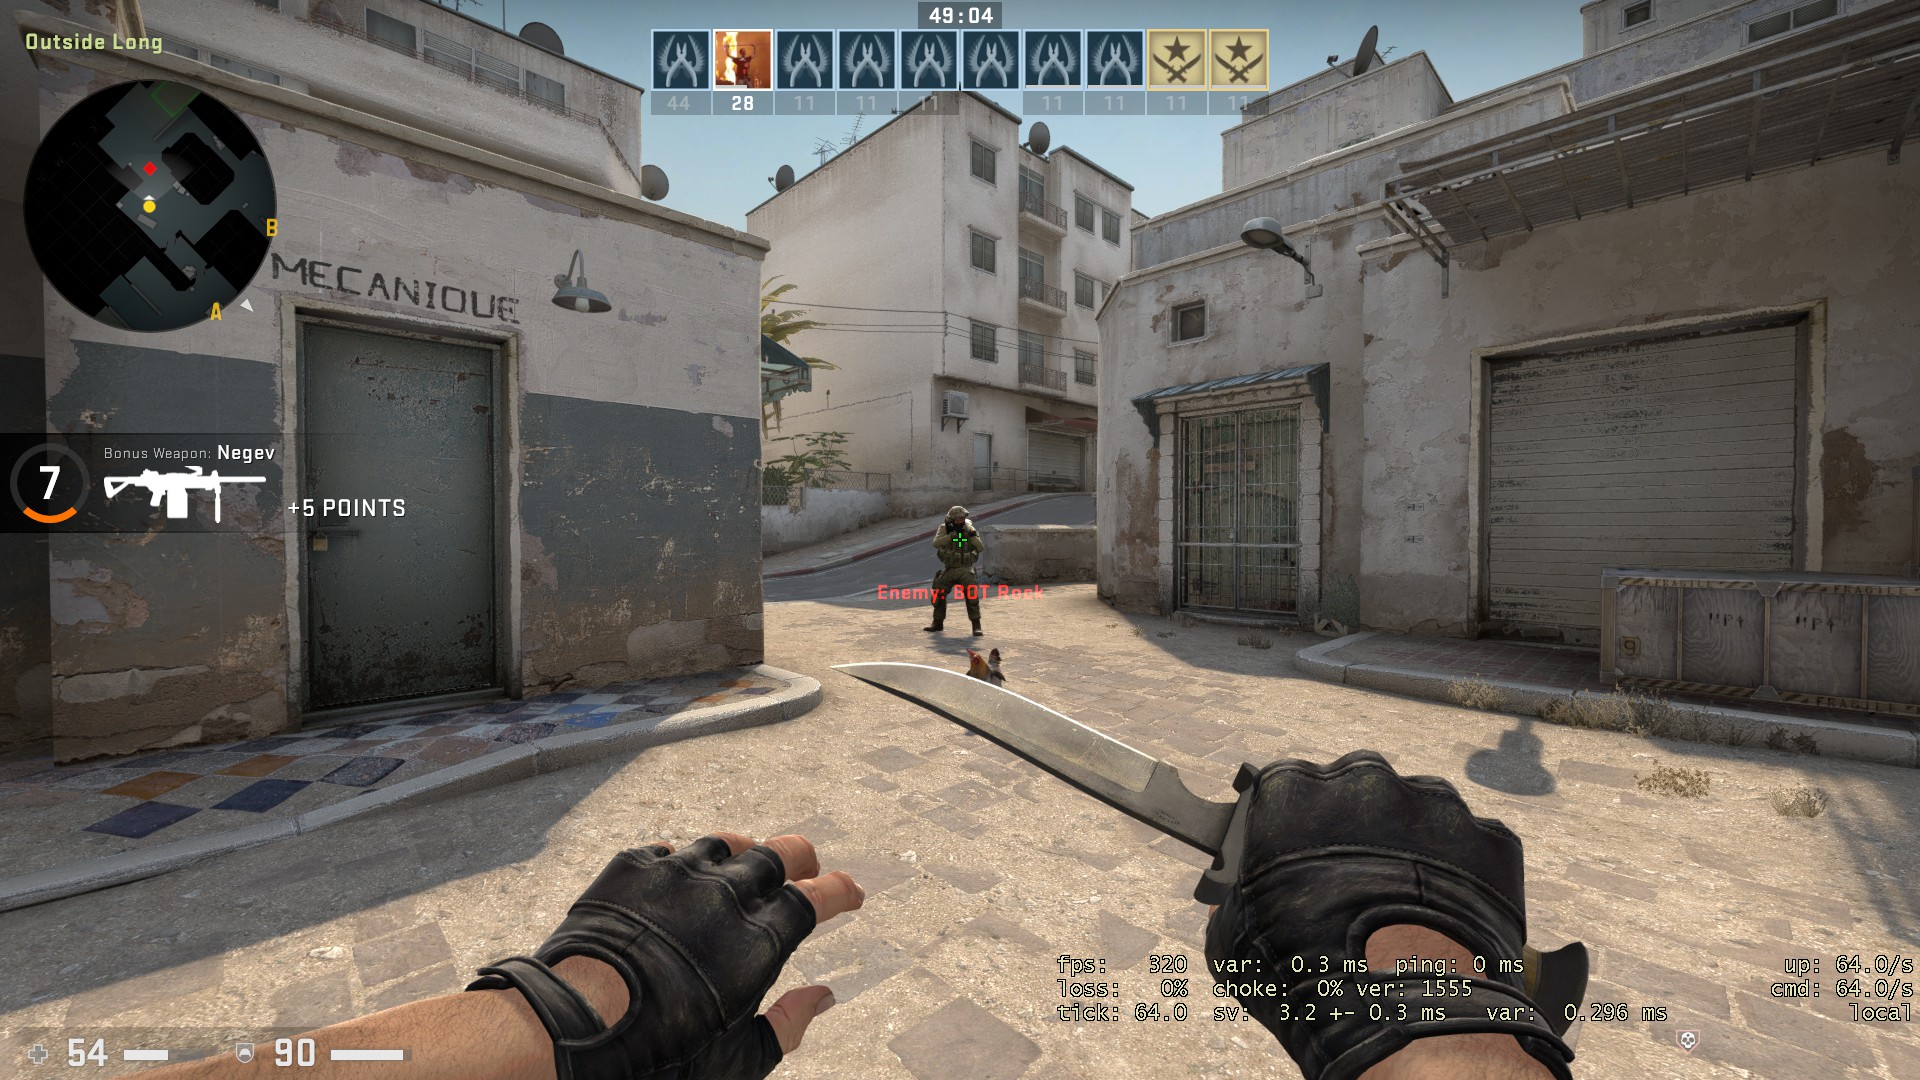player: (925, 501, 989, 642)
